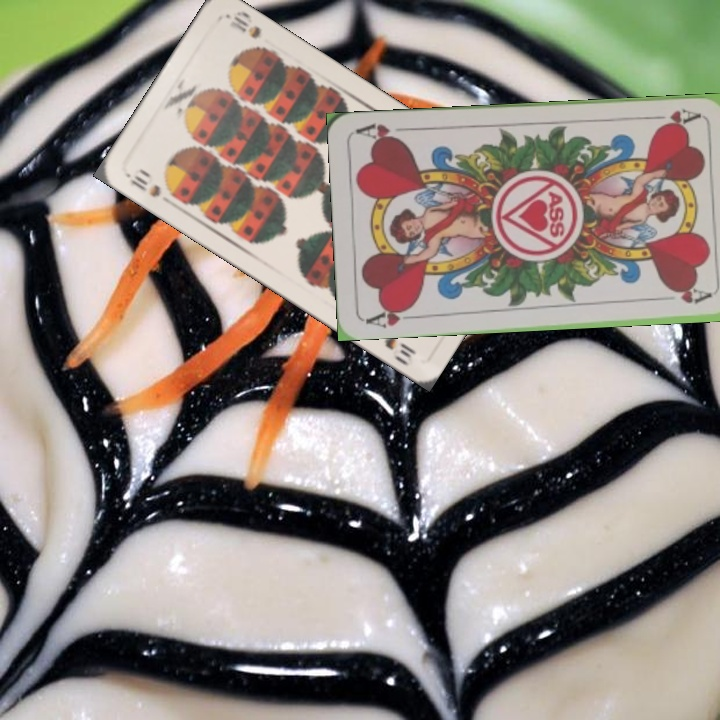HA: (361, 302, 421, 330), (641, 104, 701, 130)
S10: (122, 169, 179, 201)
